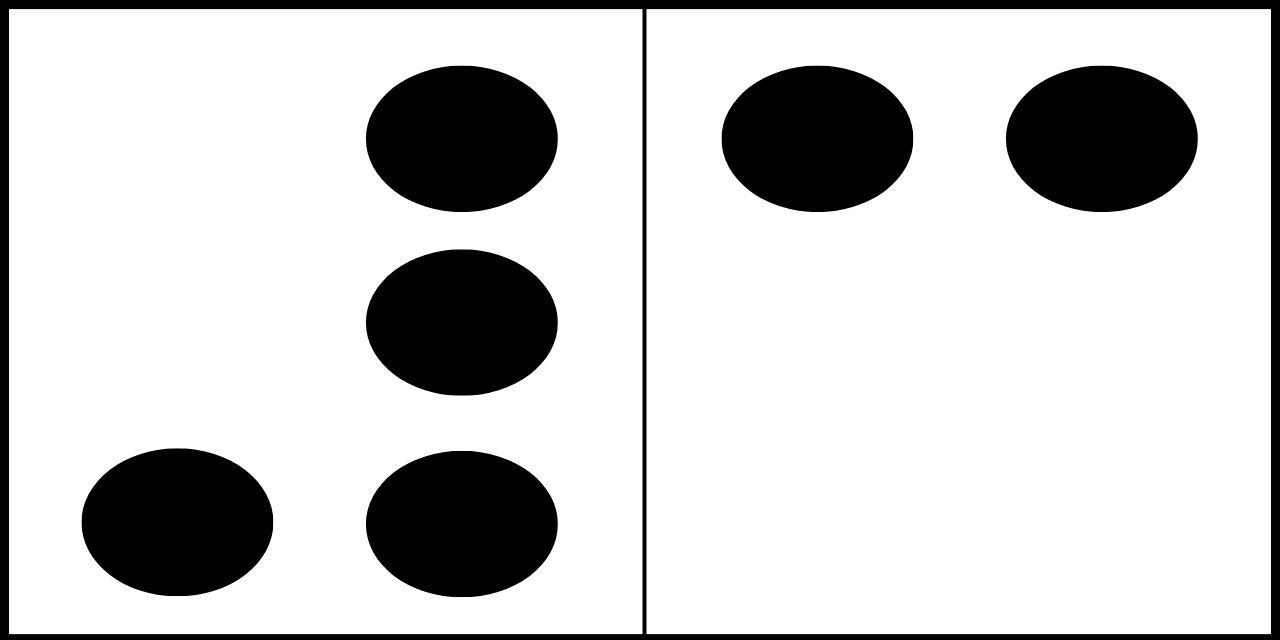digit_3: (723, 65, 1196, 592)
number_sign: (82, 65, 558, 599)
